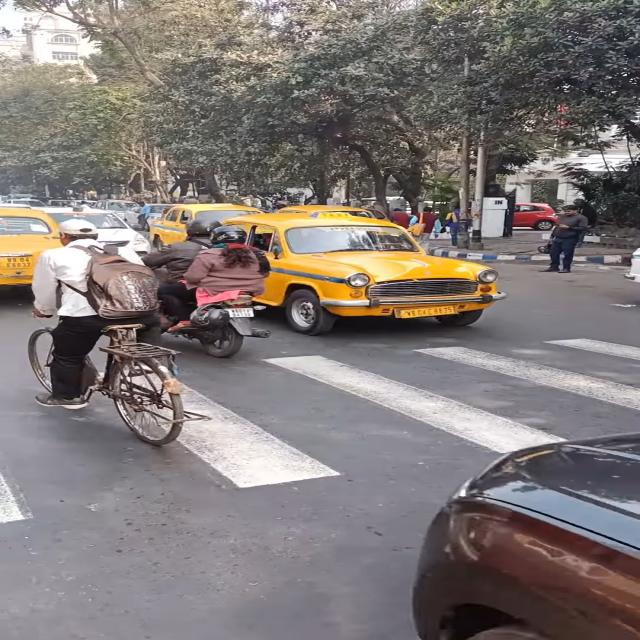Taxi: (271, 209, 504, 334)
